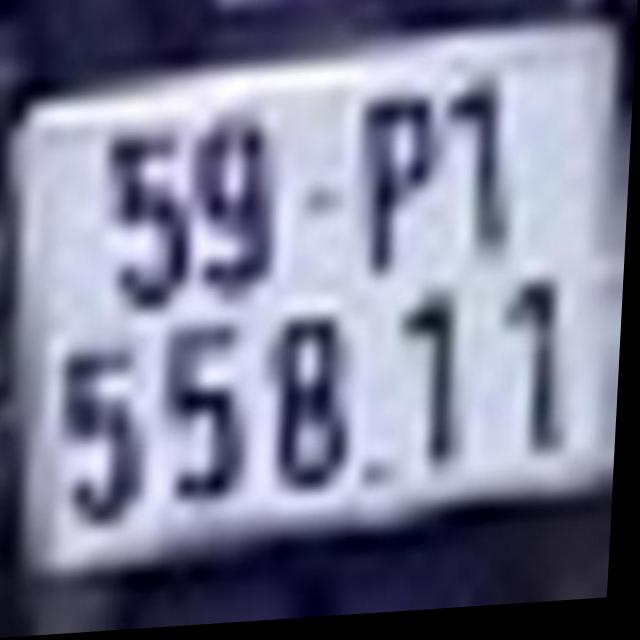1: (434, 74, 521, 277), (397, 292, 477, 475), (504, 273, 575, 469)
5: (98, 116, 201, 324), (56, 332, 159, 536), (156, 308, 255, 511)
8: (266, 301, 367, 501)
9: (192, 113, 283, 298)
P: (344, 83, 439, 294)
